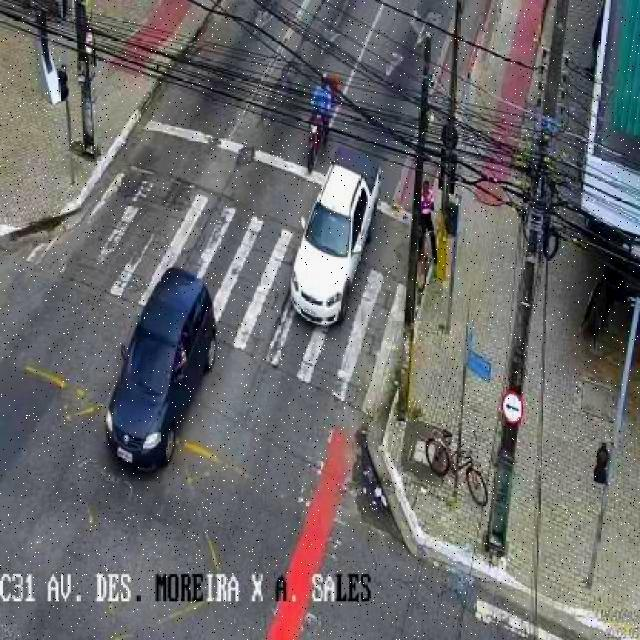Car: (104, 268, 218, 473)
Cycle: (424, 427, 489, 506), (300, 110, 331, 169)
Truck: (287, 146, 380, 328)
